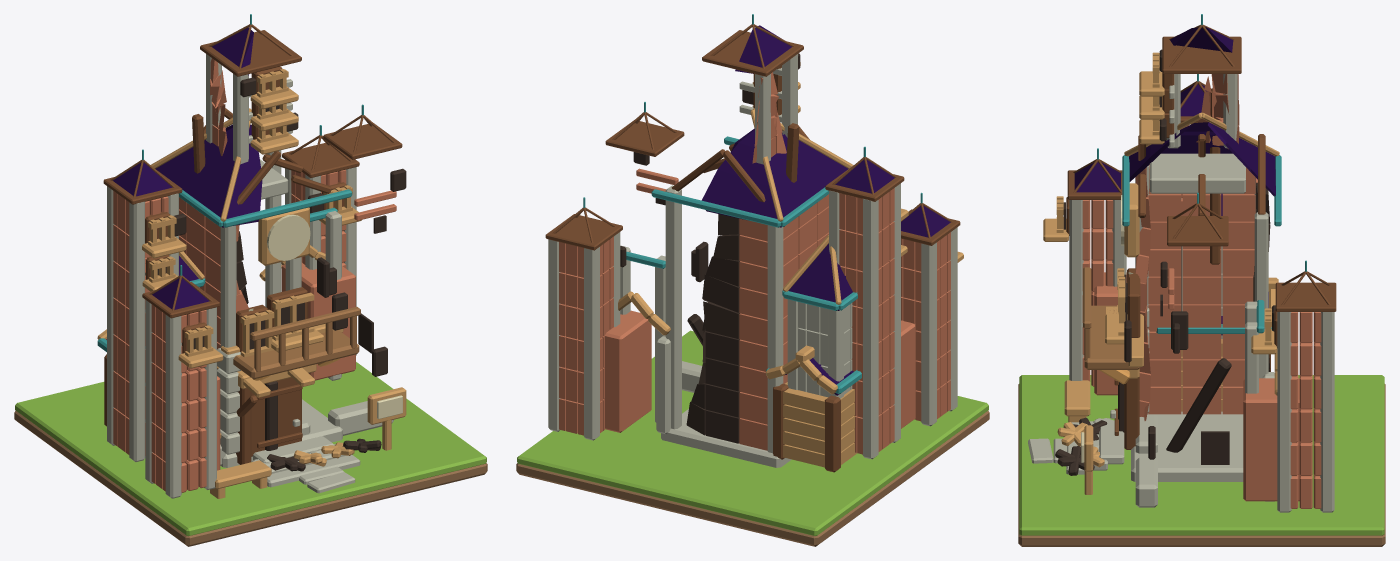
File: town_hall_l15_damaged_LOD0.glb
The picture shows the model from 3 angles, left to right: view 1: azimuth 30°, elevation 25°; view 2: azimuth 150°, elevation 25°; view 3: azimuth 270°, elevation 25°; orthographic projection. The views are drawn at different scales.
Visible parts, largest first — view 1: town_hall_l15_damaged_grass_tile, town_hall_l15_damaged_earth_tile, town_hall_l15_damaged_corner_reinforcement.024, town_hall_l15_damaged_corner_reinforcement.036, town_hall_l15_damaged_premium_balcony_floor, town_hall_l15_damaged_vertical_corner_connector, town_hall_l15_damaged_hip_roof_shingle.011, town_hall_l15_damaged_corner_reinforcement, town_hall_l15_damaged_door_recess, town_hall_l15_damaged_central_spire_cornice, town_hall_l15_damaged_corner_reinforcement.025, town_hall_l15_damaged_corner_reinforcement.038 (+35 smaller); view 2: town_hall_l15_damaged_grass_tile, town_hall_l15_damaged_earth_tile, town_hall_l15_damaged_vertical_corner_connector, town_hall_l15_damaged_corner_reinforcement.025, town_hall_l15_damaged_corner_reinforcement.003, town_hall_l15_damaged_corner_reinforcement.033, town_hall_l15_damaged_corner_reinforcement.001, town_hall_l15_damaged_corner_reinforcement.037, town_hall_l15_damaged_hip_roof_shingle.011, town_hall_l15_damaged_corner_reinforcement.035, town_hall_l15_damaged_hip_roof_shingle.008, town_hall_l15_damaged_foundation (+46 smaller); view 3: town_hall_l15_damaged_grass_tile, town_hall_l15_damaged_earth_tile, town_hall_l15_damaged_foundation, town_hall_l15_damaged_vertical_corner_connector, town_hall_l15_damaged_surviving_tower_course, town_hall_l15_damaged_corner_reinforcement.034, town_hall_l15_damaged_corner_reinforcement.035, town_hall_l15_damaged_corner_reinforcement.038, town_hall_l15_damaged_central_spire_cornice, town_hall_l15_damaged_right_spire_cornice, town_hall_l15_damaged_rear_right_spire_cornice, town_hall_l15_damaged_premium_balcony_floor (+65 smaller).
Boxes of the visible parts, <box> form: town_hall_l15_damaged_grass_tile: <box>15,362,486,535</box>; town_hall_l15_damaged_earth_tile: <box>14,410,487,546</box>; town_hall_l15_damaged_corner_reinforcement.024: <box>129,201,145,461</box>; town_hall_l15_damaged_corner_reinforcement.036: <box>165,315,181,498</box>; town_hall_l15_damaged_premium_balcony_floor: <box>233,330,359,379</box>; town_hall_l15_damaged_vertical_corner_connector: <box>281,262,355,380</box>; town_hall_l15_damaged_hip_roof_shingle.011: <box>155,152,228,227</box>; town_hall_l15_damaged_corner_reinforcement: <box>220,225,236,347</box>; town_hall_l15_damaged_door_recess: <box>251,377,301,456</box>; town_hall_l15_damaged_central_spire_cornice: <box>200,30,301,76</box>; town_hall_l15_damaged_corner_reinforcement.025: <box>107,186,115,445</box>; town_hall_l15_damaged_corner_reinforcement.038: <box>204,307,216,489</box>; town_hall_l15_damaged_grass_tile: <box>517,330,988,535</box>; town_hall_l15_damaged_earth_tile: <box>516,410,989,546</box>; town_hall_l15_damaged_vertical_corner_connector: <box>604,310,651,432</box>; town_hall_l15_damaged_corner_reinforcement.025: <box>862,199,878,459</box>; town_hall_l15_damaged_corner_reinforcement.003: <box>665,185,681,429</box>; town_hall_l15_damaged_corner_reinforcement.033: <box>583,247,599,440</box>; town_hall_l15_damaged_corner_reinforcement.001: <box>767,225,783,453</box>; town_hall_l15_damaged_corner_reinforcement.037: <box>921,242,936,426</box>; town_hall_l15_damaged_hip_roof_shingle.011: <box>775,152,848,227</box>; town_hall_l15_damaged_corner_reinforcement.035: <box>548,239,560,431</box>; town_hall_l15_damaged_hip_roof_shingle.008: <box>701,169,780,227</box>; town_hall_l15_damaged_foundation: <box>661,409,791,467</box>; town_hall_l15_damaged_grass_tile: <box>1019,375,1384,535</box>; town_hall_l15_damaged_earth_tile: <box>1018,384,1385,546</box>; town_hall_l15_damaged_foundation: <box>1131,411,1243,481</box>; town_hall_l15_damaged_vertical_corner_connector: <box>1243,378,1299,501</box>; town_hall_l15_damaged_surviving_tower_course: <box>1149,153,1245,193</box>; town_hall_l15_damaged_corner_reinforcement.034: <box>1277,312,1291,512</box>; town_hall_l15_damaged_corner_reinforcement.035: <box>1320,312,1334,512</box>; town_hall_l15_damaged_corner_reinforcement.038: <box>1069,200,1083,380</box>; town_hall_l15_damaged_central_spire_cornice: <box>1162,36,1241,73</box>; town_hall_l15_damaged_right_spire_cornice: <box>1167,216,1228,246</box>; town_hall_l15_damaged_rear_right_spire_cornice: <box>1275,282,1336,311</box>; town_hall_l15_damaged_premium_balcony_floor: <box>1084,305,1140,369</box>.
Size of the model in its own units: 3.6 by 4.94 by 3.6.
